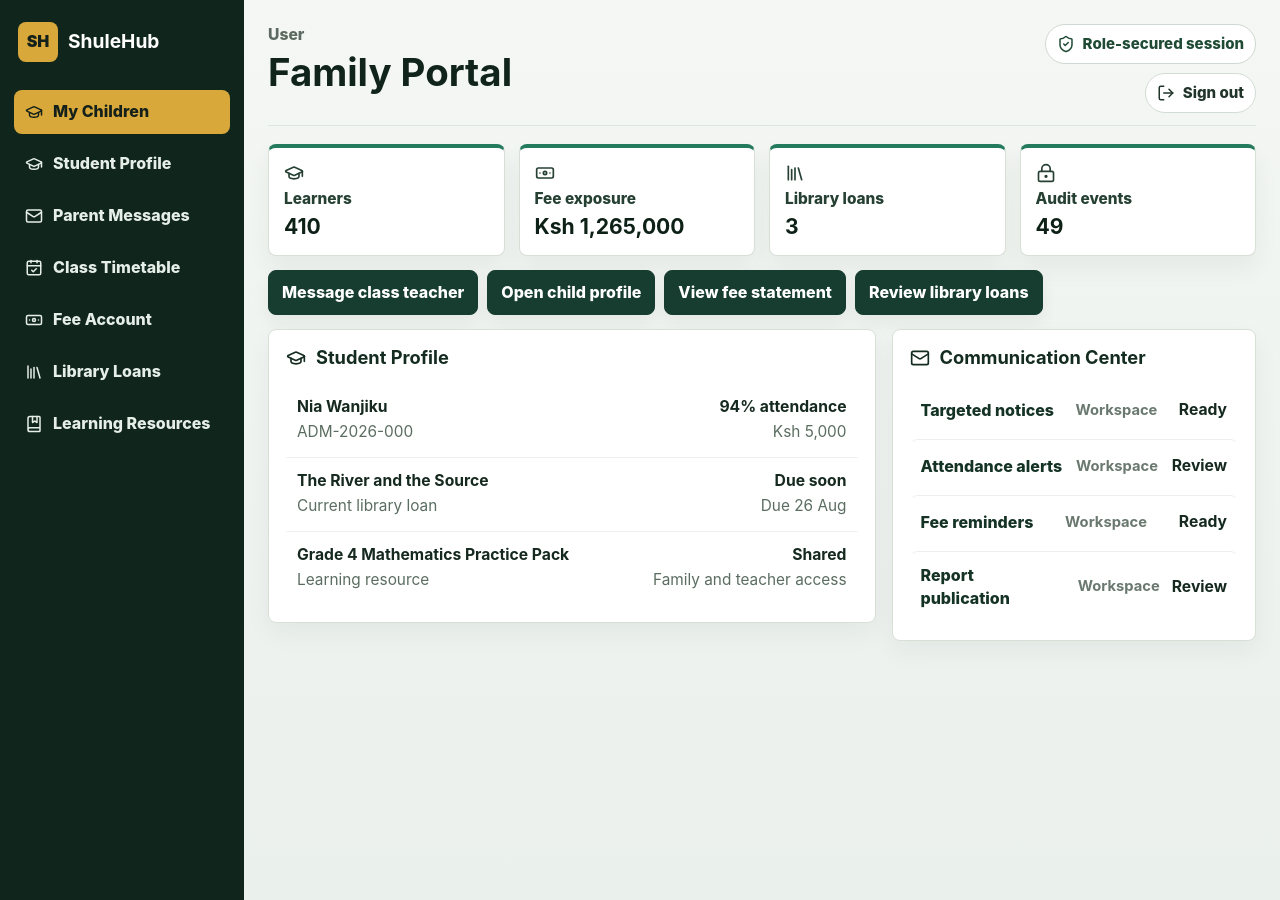
Test: App › workflow buttons open focused pages with role-specific data
Click the button "View fee statement": (755,292) left=664, top=270, right=846, bottom=315
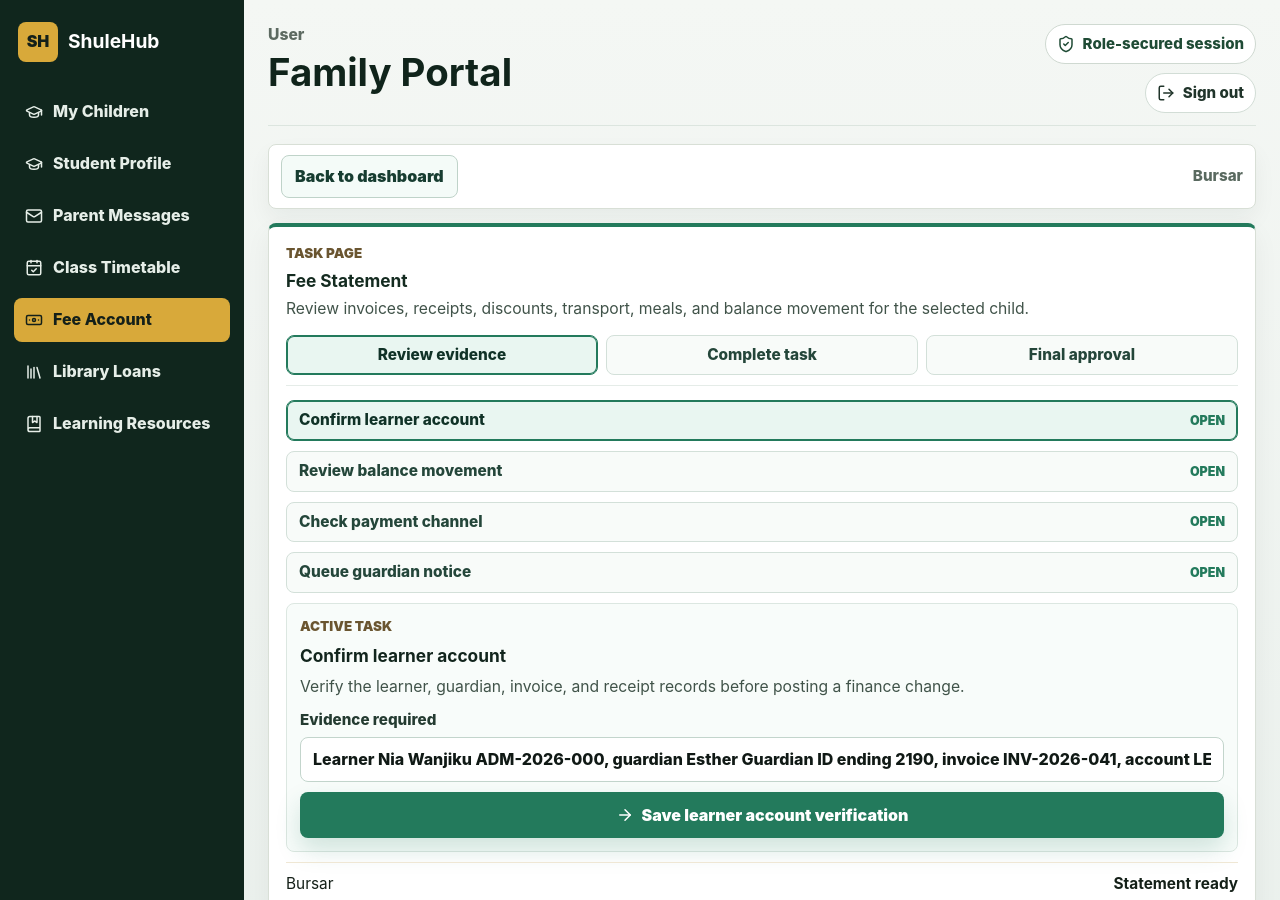
Expected: the heading "Fee Statement" is shown, left=286, top=270, right=408, bottom=291
Now the button "Back to dashboard" is shown
Now the field labelled "Evidence required" holds "Learner Nia Wanjiku ADM-2026-000, guardian Esther Guardian ID ending 2190, invoice INV-2026-041, account LEDGER-ADM-2026-000", box left=300, top=737, right=1224, bottom=782
Click the button "Back to dashboard": (369,176) left=281, top=155, right=458, bottom=198
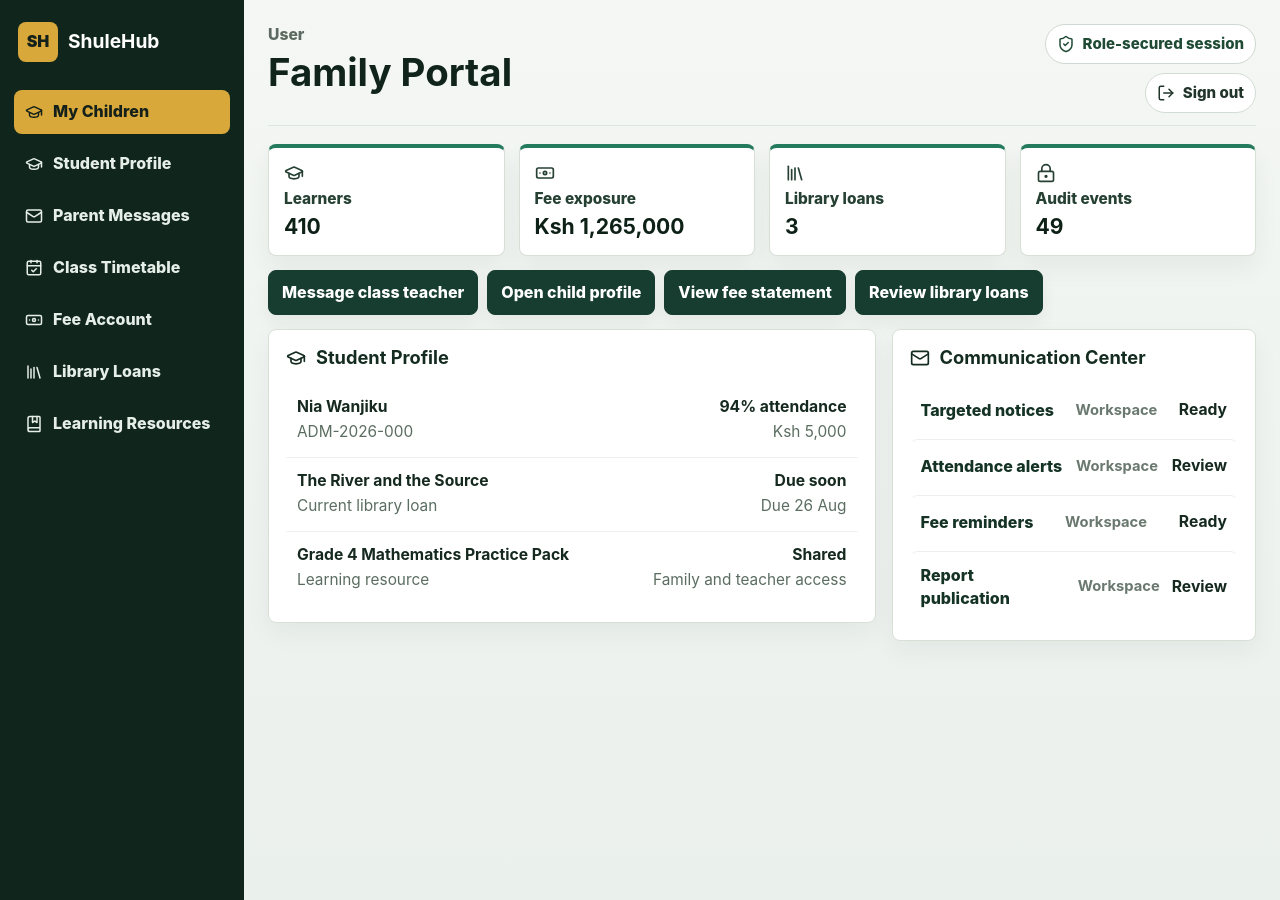
Click the button "Review library loans": (949,292) left=855, top=270, right=1043, bottom=315
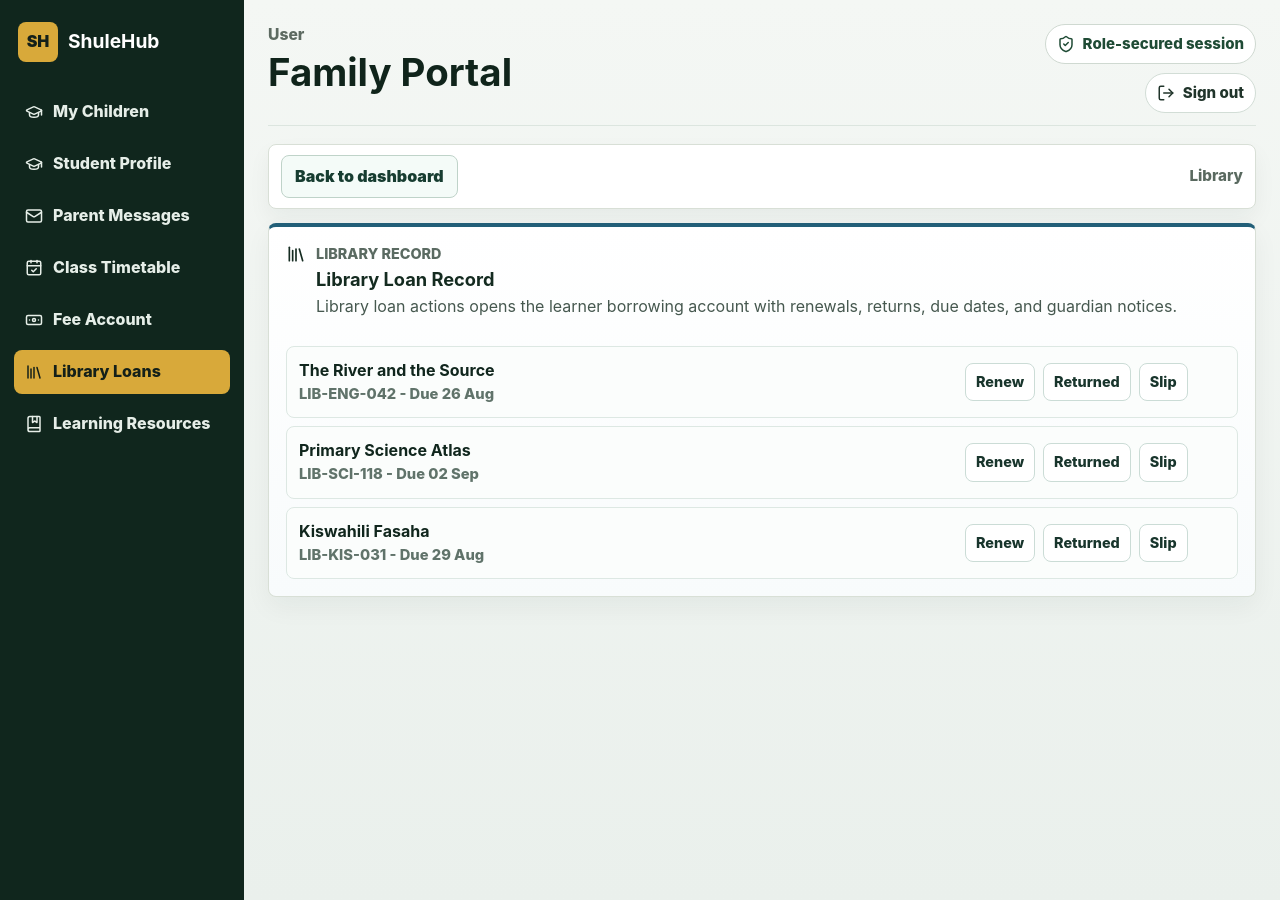
Now the heading "Library Loan Record" is shown, box left=316, top=268, right=494, bottom=290
Now the text "LIB-ENG-042 - Due 26 Aug" is shown, box left=299, top=385, right=494, bottom=403
